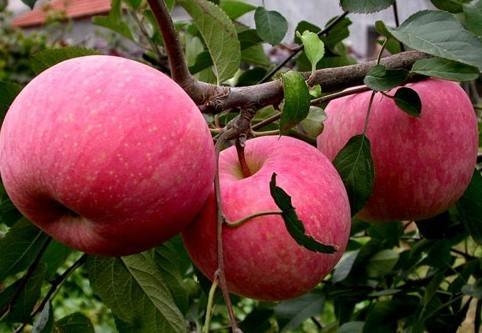apple: (1, 60, 216, 263), (189, 135, 352, 303), (326, 79, 482, 224)
